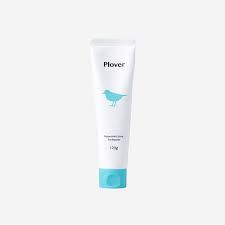toothpaste: (79, 37, 146, 190)
